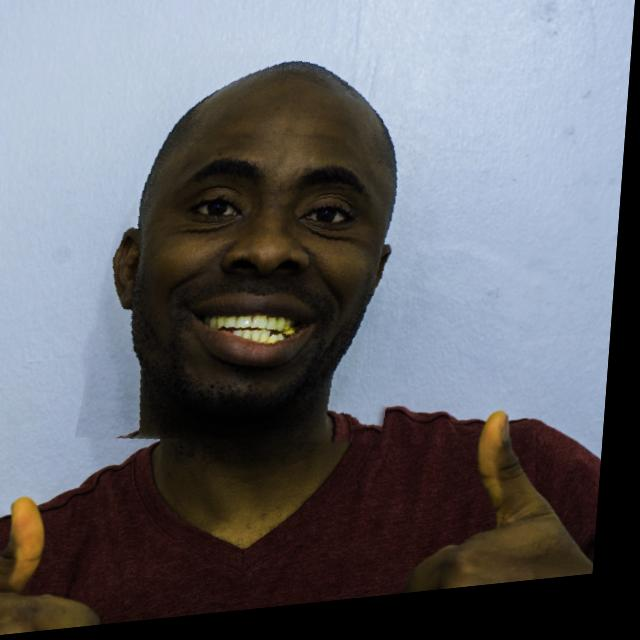happy: (91, 38, 447, 468)
